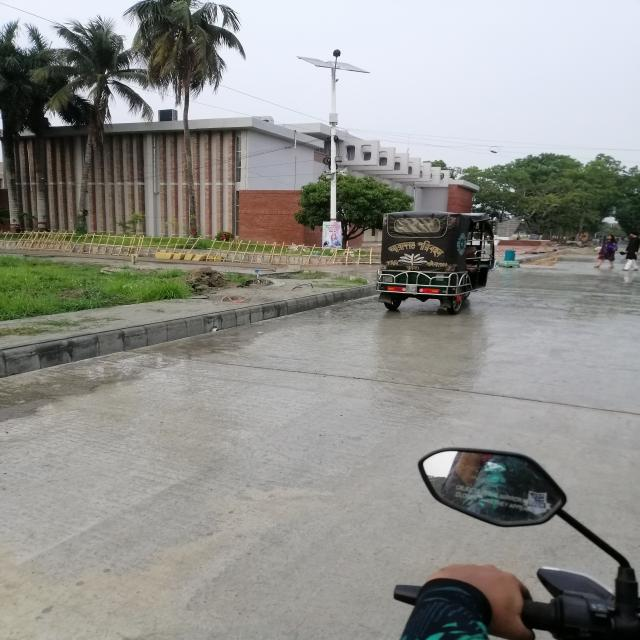Easybike: (375, 210, 509, 315)
